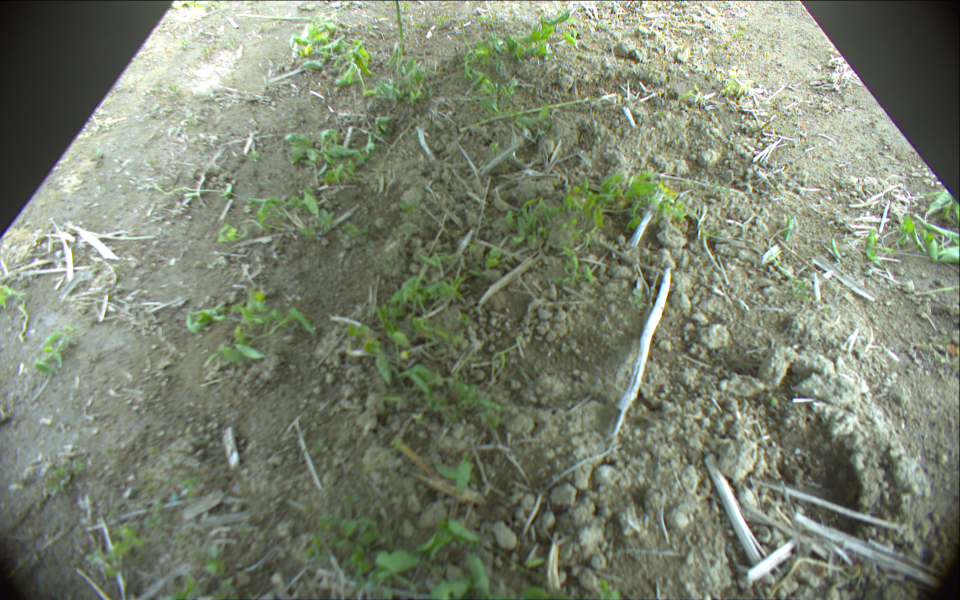aspa: (395, 1, 405, 61)
